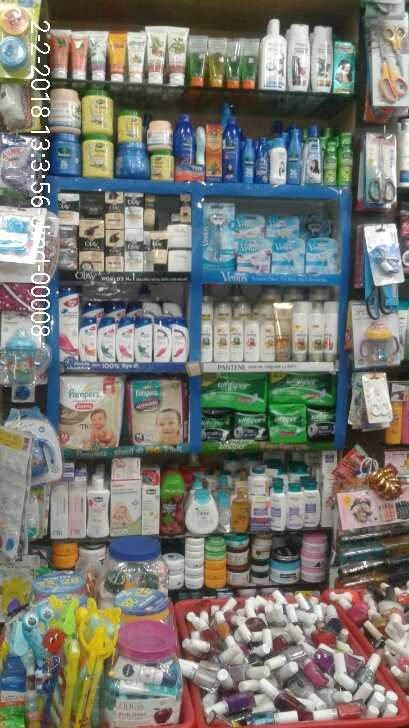venus: (203, 201, 237, 272), (304, 239, 340, 273), (237, 238, 273, 272), (273, 238, 304, 273), (268, 216, 301, 235), (304, 214, 330, 235), (239, 215, 265, 235)
